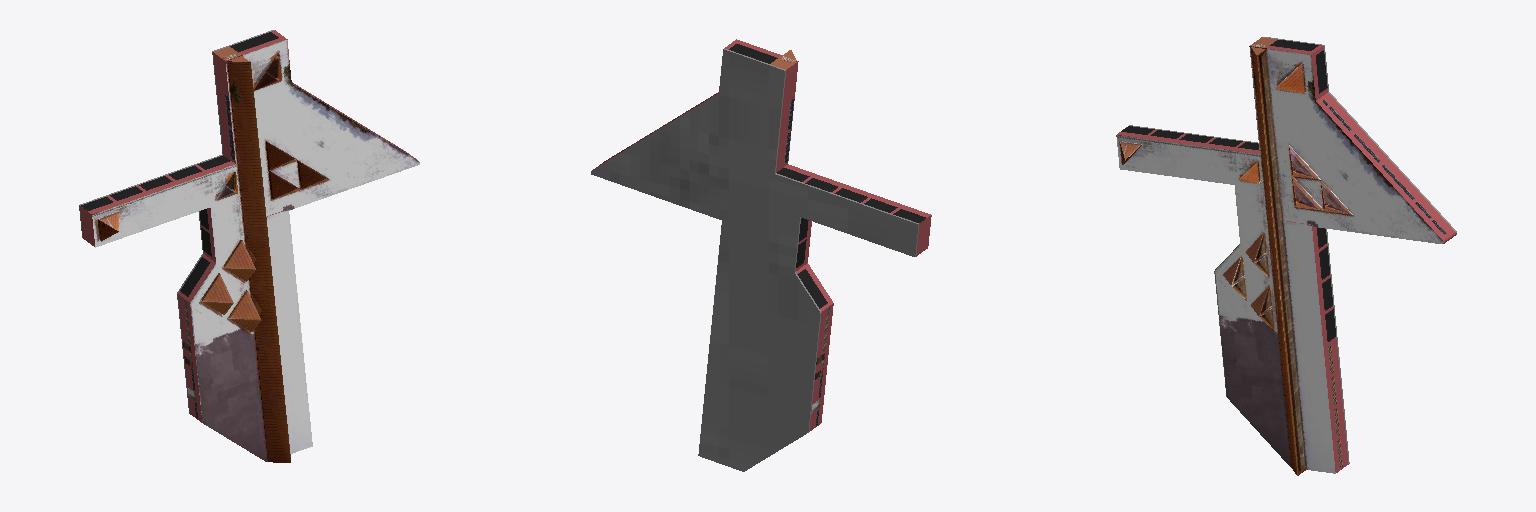
3 renders of one model, left to right at view 1: azimuth 30°, elevation 25°; view 2: azimuth 150°, elevation 25°; view 3: azimuth 330°, elevation 25°, orthographic.
Parts seen in each view (by area): view 1: polygon.758; view 2: polygon.758; view 3: polygon.758.
Part boxes in pixels (x1,y1,x2,y2): polygon.758: (79, 30, 419, 462); polygon.758: (591, 39, 931, 471); polygon.758: (1116, 37, 1456, 475).
Size of the model in its own units: 83.5 by 102 by 11.78.
1 materials, 1 textured.